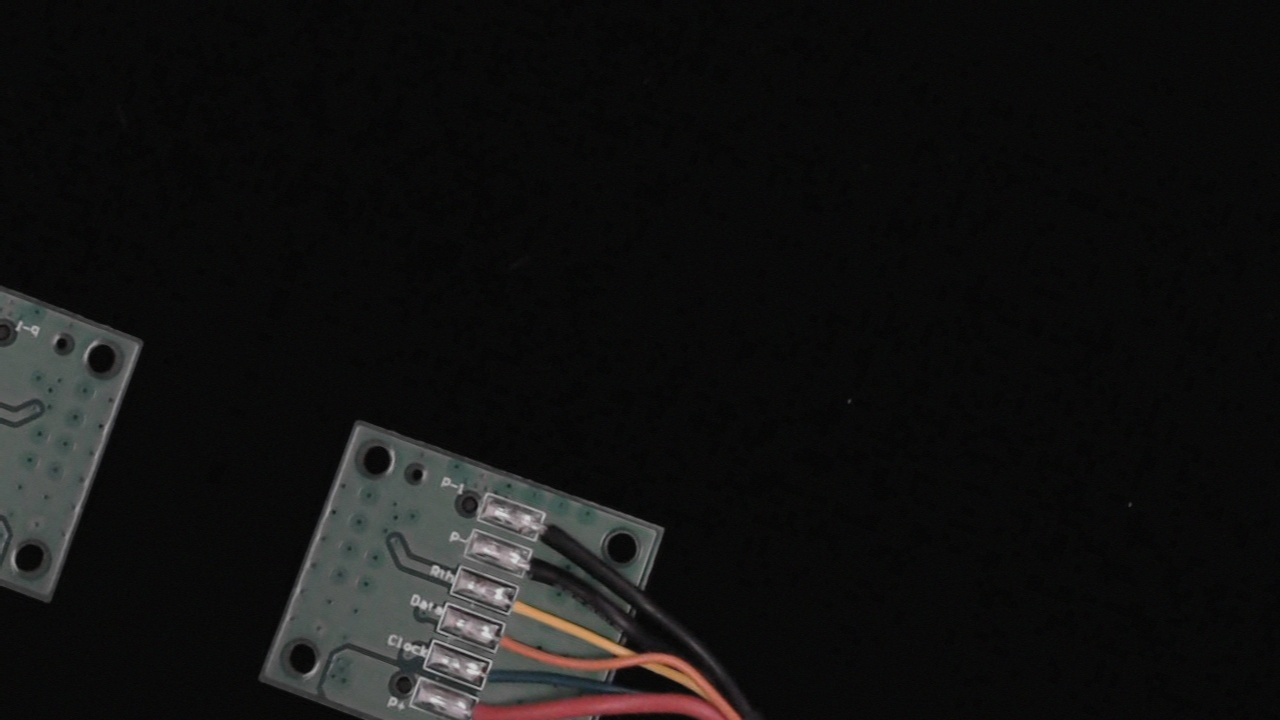Black: (498, 539, 578, 596)
Black1: (513, 504, 587, 558)
Green: (458, 649, 535, 705)
Orange: (472, 614, 551, 669)
Red: (443, 688, 521, 720)
Yellow: (484, 577, 566, 634)
